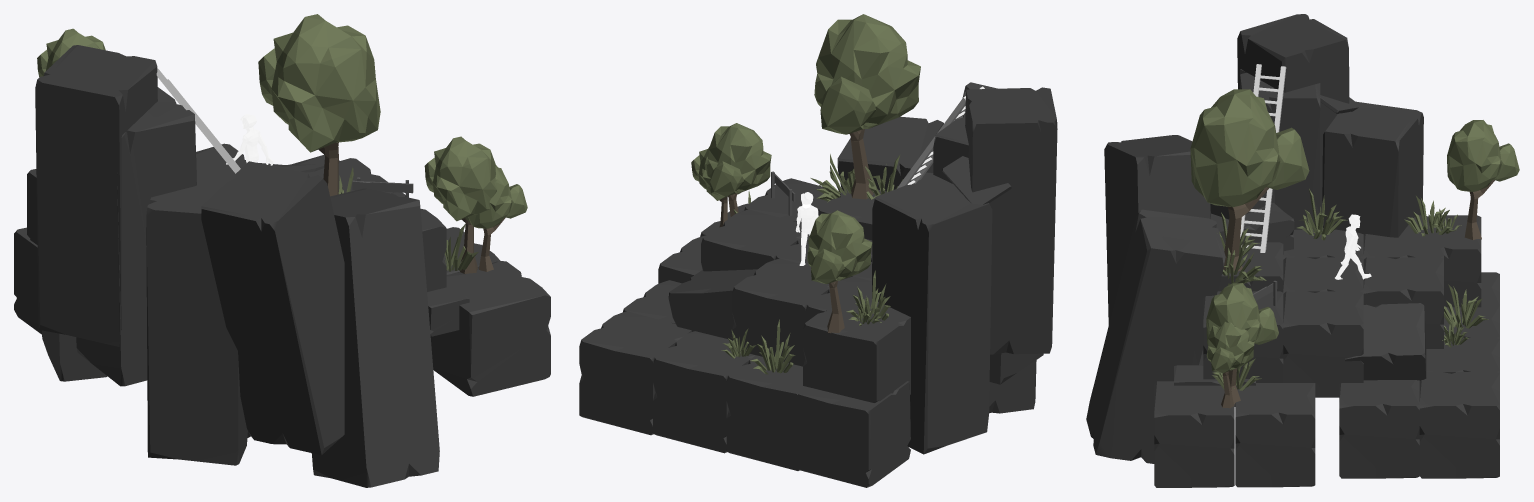
3 views of the same model, side by side, from view 1: azimuth 30°, elevation 25°; view 2: azimuth 150°, elevation 25°; view 3: azimuth 270°, elevation 25° (orthographic). The views are drawn at different scales.
Visible parts, largest first — view 1: SM_Bld_Block_1x1_01P123_787.004, SM_Bld_Block_1x1_01P123_787.005, SM_Bld_Block_1x1_01P123_787.002, SM_Bld_Block_1x1_01P123_787.003, SM_Generic_Tree_398.002, SM_Bld_Block_1x1_01P123_787.001, SM_Bld_Block_1x1_01P112, SM_Generic_Tree_398, SM_Bld_Block_1x1_01P119.002, SM_Generic_Tree_398.001, SM_Bld_Block_1x1_01P123_787, SM_Bld_Block_1x1_01P132 (+10 smaller); view 2: SM_Bld_Block_1x1_01P123_787, SM_Bld_Block_1x1_01P123_787.002, SM_Generic_Tree_398.002, SM_Bld_Block_1x1_01P119.002, SM_Bld_Block_1x1_01P121, SM_Bld_Block_1x1_01P118, SM_Bld_Block_1x1_01P120, SM_Bld_Block_1x1_01P119, SM_Bld_Block_1x1_01P135, SM_Bld_Block_1x1_01P130, SM_Generic_Tree_04_388, SM_Bld_Block_1x1_01P123_787.005 (+17 smaller); view 3: SM_Bld_Block_1x1_01P123_787.005, SM_Bld_Block_1x1_01P123_787, SM_Generic_Tree_398.002, SM_Bld_Block_1x1_01P123_787.004, SM_Bld_Block_1x1_01P121, SM_Bld_Block_1x1_01P122.001, SM_Bld_Block_1x1_01P112, SM_Bld_Block_1x1_01P122, SM_Bld_Block_1x1_01P130, SM_Bld_Block_1x1_01P123_787.002, SM_Bld_Block_1x1_01P119.001, SM_Bld_Block_1x1_01P123_787.001 (+22 smaller).
Part boxes in pixels (x1,y1,x2,y2): SM_Bld_Block_1x1_01P123_787.004: [201, 161, 344, 455]; SM_Bld_Block_1x1_01P123_787.005: [311, 188, 439, 487]; SM_Bld_Block_1x1_01P123_787.002: [35, 45, 157, 346]; SM_Bld_Block_1x1_01P123_787.003: [146, 172, 250, 465]; SM_Generic_Tree_398.002: [258, 14, 380, 196]; SM_Bld_Block_1x1_01P123_787.001: [76, 87, 196, 386]; SM_Bld_Block_1x1_01P112: [430, 261, 550, 396]; SM_Generic_Tree_398: [424, 136, 496, 273]; SM_Bld_Block_1x1_01P119.002: [14, 227, 41, 334]; SM_Generic_Tree_398.001: [465, 165, 527, 271]; SM_Bld_Block_1x1_01P123_787: [42, 330, 107, 381]; SM_Bld_Block_1x1_01P132: [391, 192, 446, 291]; SM_Bld_Block_1x1_01P123_787: [872, 175, 992, 454]; SM_Bld_Block_1x1_01P123_787.002: [965, 87, 1057, 354]; SM_Generic_Tree_398.002: [814, 14, 920, 199]; SM_Bld_Block_1x1_01P119.002: [797, 381, 910, 487]; SM_Bld_Block_1x1_01P121: [579, 311, 691, 435]; SM_Bld_Block_1x1_01P118: [803, 296, 910, 402]; SM_Bld_Block_1x1_01P120: [653, 331, 755, 453]; SM_Bld_Block_1x1_01P119: [726, 355, 809, 470]; SM_Bld_Block_1x1_01P135: [732, 258, 845, 366]; SM_Bld_Block_1x1_01P130: [701, 209, 801, 271]; SM_Generic_Tree_04_388: [807, 210, 872, 333]; SM_Bld_Block_1x1_01P123_787.005: [837, 116, 943, 190]; SM_Bld_Block_1x1_01P123_787.005: [1086, 209, 1225, 463]; SM_Bld_Block_1x1_01P123_787: [1322, 101, 1423, 237]; SM_Generic_Tree_398.002: [1190, 89, 1309, 271]; SM_Bld_Block_1x1_01P123_787.004: [1104, 135, 1210, 365]; SM_Bld_Block_1x1_01P121: [1419, 372, 1499, 478]; SM_Bld_Block_1x1_01P122.001: [1235, 383, 1315, 487]; SM_Bld_Block_1x1_01P112: [1154, 381, 1234, 487]; SM_Bld_Block_1x1_01P122: [1339, 380, 1419, 478]; SM_Bld_Block_1x1_01P130: [1283, 291, 1363, 397]; SM_Bld_Block_1x1_01P123_787.002: [1237, 14, 1349, 213]; SM_Bld_Block_1x1_01P119.001: [1345, 303, 1426, 380]; SM_Bld_Block_1x1_01P123_787.001: [1240, 69, 1320, 229].
Bounding box in the file's own units: 15.26 × 13.73 × 14.91.
22 materials, 8 textured.
